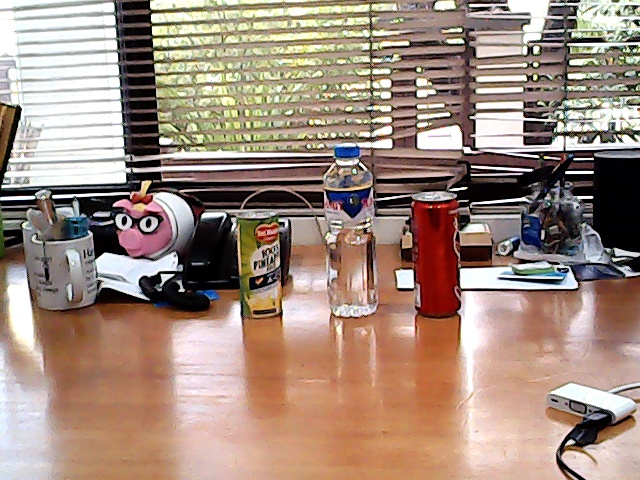Cola: (406, 182, 473, 328)
Pine Juice: (231, 199, 292, 325)
Summit Water: (318, 132, 384, 325)
